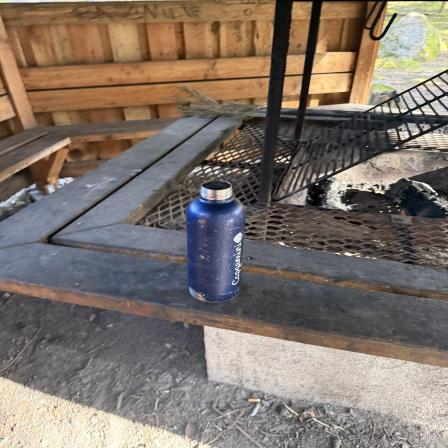blue_bottle: (184, 179, 248, 303)
